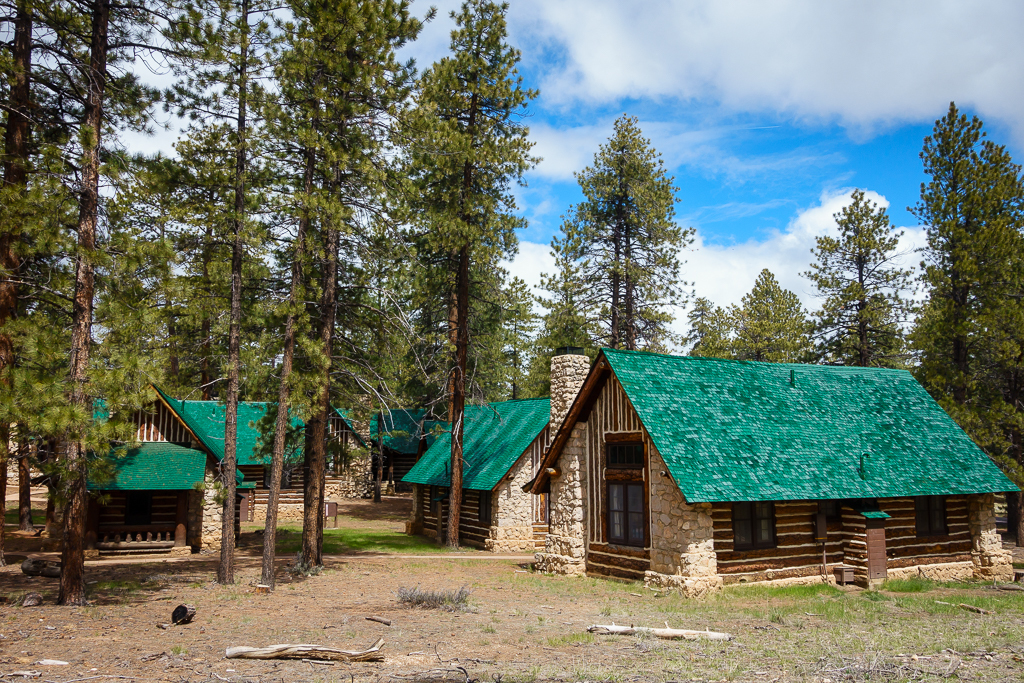Tree: (0, 0, 544, 605), (682, 100, 1024, 547), (534, 111, 697, 355)
